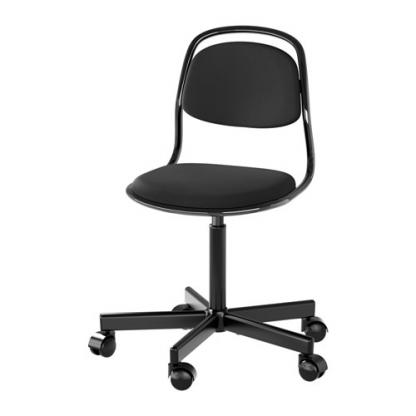Chair: (86, 23, 330, 392)
